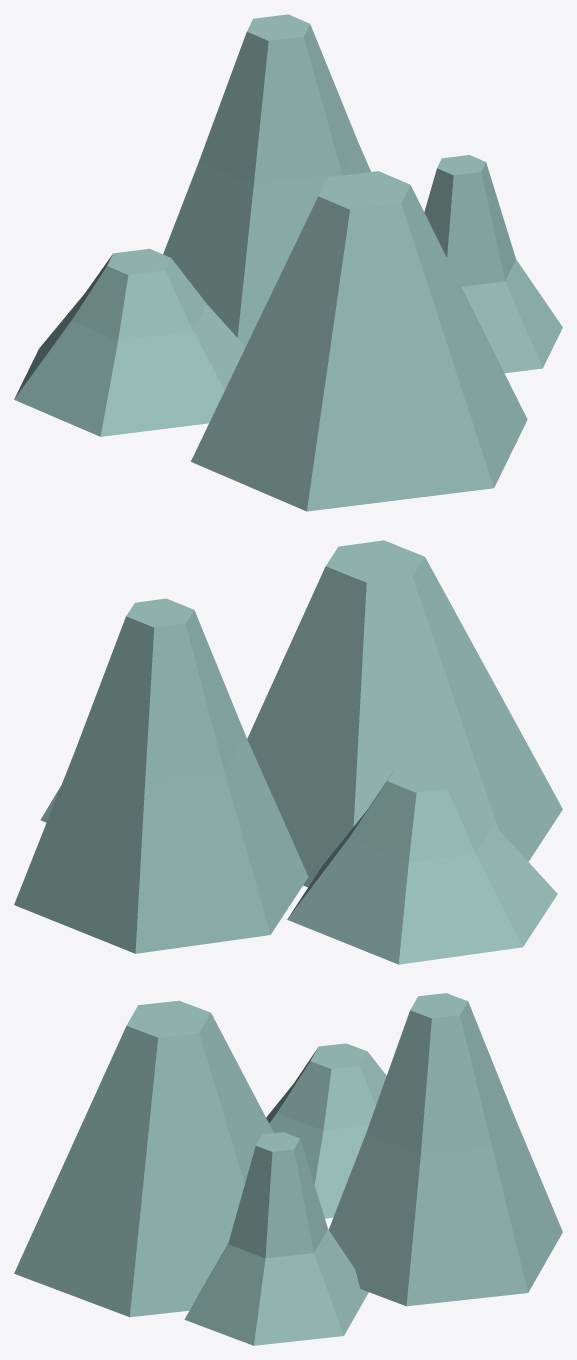
Rendered from Minerai_p02.fbx.
3 renders of one model, top to bottom at view 1: azimuth 30°, elevation 25°; view 2: azimuth 150°, elevation 25°; view 3: azimuth 270°, elevation 25°, orthographic. The views are drawn at different scales.
Parts seen in each view (by area): view 1: Minerai.002; view 2: Minerai.002; view 3: Minerai.002.
Part boxes in pixels (left/top/right/bottom): Minerai.002: left=14, top=14, right=562, bottom=511; Minerai.002: left=14, top=540, right=562, bottom=964; Minerai.002: left=14, top=993, right=562, bottom=1345.
Bounding box in the file's own units: 75.22 × 42.87 × 78.11.
